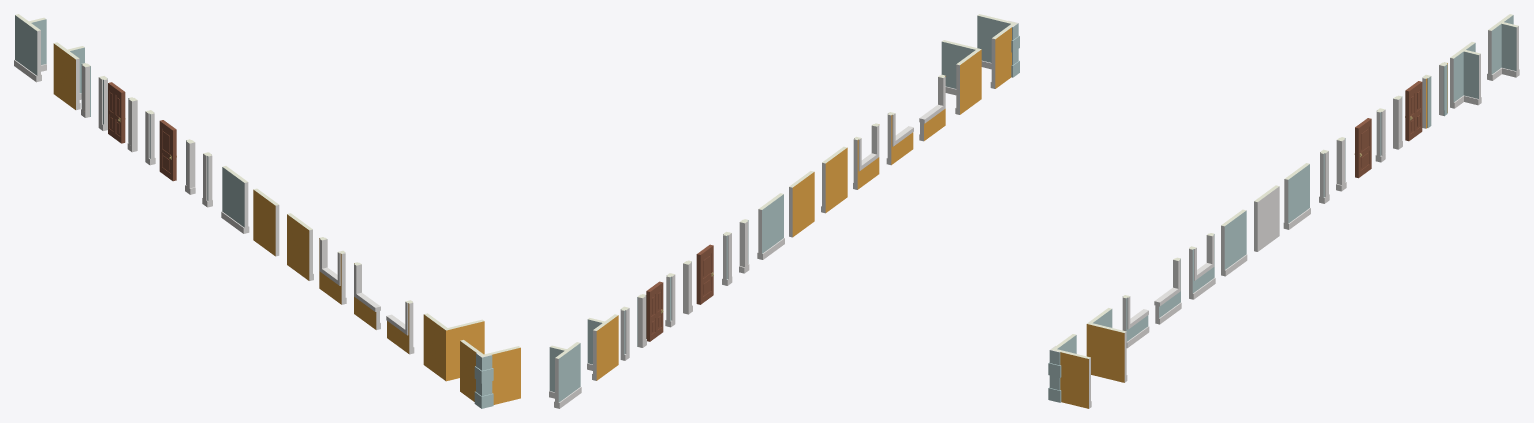
Rendered from House.fbx.
3 views of the same model, side by side, from view 1: azimuth 30°, elevation 25°; view 2: azimuth 150°, elevation 25°; view 3: azimuth 330°, elevation 25° (orthographic).
Parts seen in each view (by area): view 1: 10.004, 10.001, 18.001, 17.001, 03.001, 01.001, 02.004, 04.003, 07.002, 08.006, Cube.100, 09.007 (+3 smaller); view 2: 10.004, 10.001, 18.001, 17.001, 03.001, 02.004, 01.001, 04.003, Cube.100, 07.002, 08.006, 08.007 (+3 smaller); view 3: 10.004, 10.001, 18.001, 17.001, 03.001, 02.004, 01.001, 04.003, 08.006, 07.002, Cube.100, 09.007 (+3 smaller).
Part boxes in pixels (box(x1,y1,x2,y2)): 10.004: box(460, 340, 520, 408); 10.001: box(423, 313, 484, 381); 18.001: box(14, 14, 46, 82); 17.001: box(53, 42, 84, 110); 03.001: box(221, 166, 249, 233); 01.001: box(253, 188, 279, 256); 02.004: box(287, 213, 313, 280); 04.003: box(319, 237, 346, 304); 07.002: box(185, 139, 212, 207); 08.006: box(127, 97, 155, 165); Cube.100: box(81, 63, 107, 130); 09.007: box(108, 82, 125, 143); 10.004: box(977, 14, 1019, 88); 10.001: box(941, 40, 981, 114); 18.001: box(549, 342, 581, 408); 17.001: box(587, 314, 618, 380); 03.001: box(757, 193, 784, 259); 02.004: box(821, 146, 847, 213); 01.001: box(789, 171, 814, 237); 04.003: box(853, 123, 879, 189); Cube.100: box(620, 294, 646, 360); 07.002: box(722, 219, 749, 285); 08.006: box(665, 260, 692, 327); 08.007: box(696, 244, 713, 304); 10.004: box(1048, 334, 1091, 408); 10.001: box(1086, 308, 1127, 382); 18.001: box(1487, 14, 1519, 80); 17.001: box(1450, 42, 1481, 108); 03.001: box(1283, 163, 1310, 229); 02.004: box(1221, 209, 1247, 276); 01.001: box(1254, 185, 1279, 251); 04.003: box(1189, 233, 1215, 299); 08.006: box(1375, 95, 1402, 162); 07.002: box(1319, 137, 1346, 203); Cube.100: box(1422, 62, 1447, 128); 09.007: box(1405, 81, 1422, 141).
Bounding box in the file's own units: 209 × 251 × 4196.
Materials: 2 (2 with a texture image).
